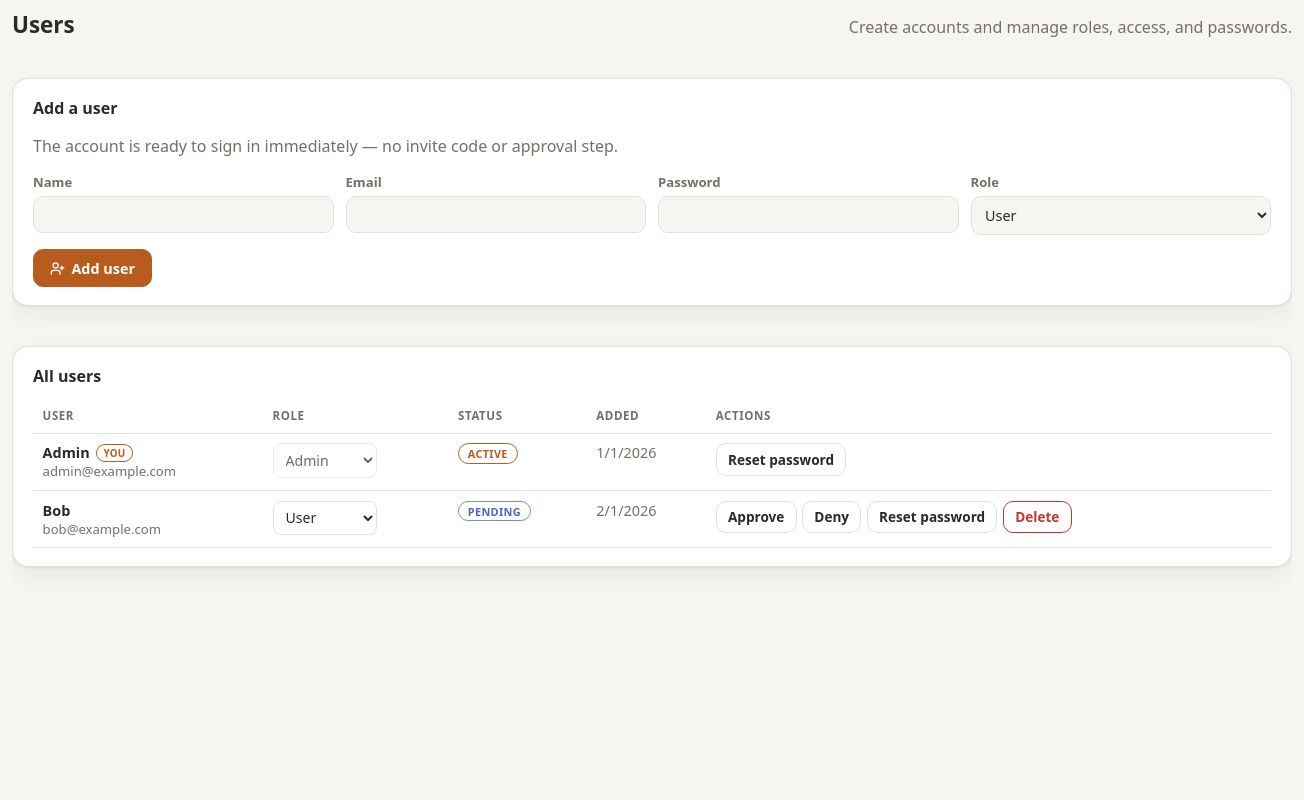
Test: AdminPage › approves a pending user
The image size is (1304, 800).
Check: the text "bob@example.com" is shown, box x1=43 y1=520 x2=161 y2=538
Click the button "Approve" at (756, 517), box x1=716 y1=500 x2=797 y2=533
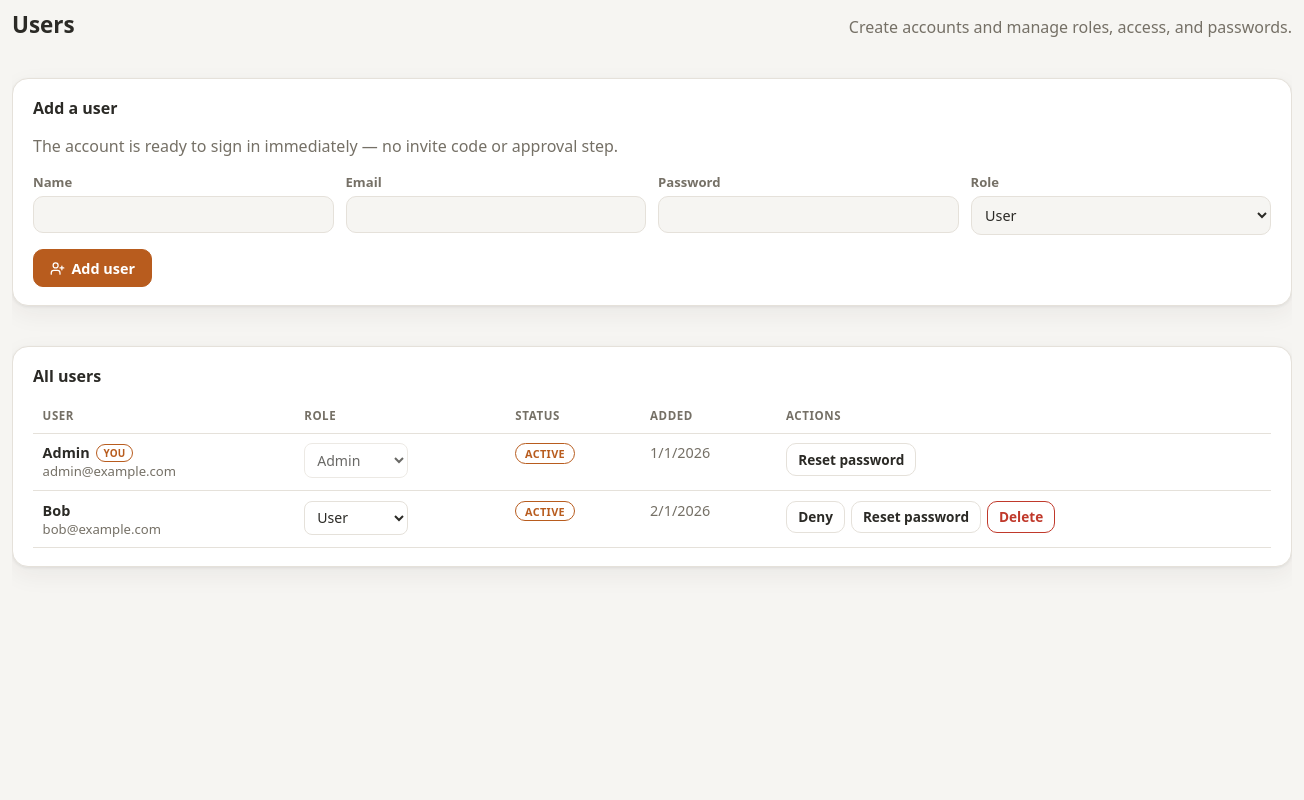
Check: the text "Active" next to "2/1/2026" is shown, box x1=525 y1=504 x2=565 y2=518
Check: the button "Approve" is gone
